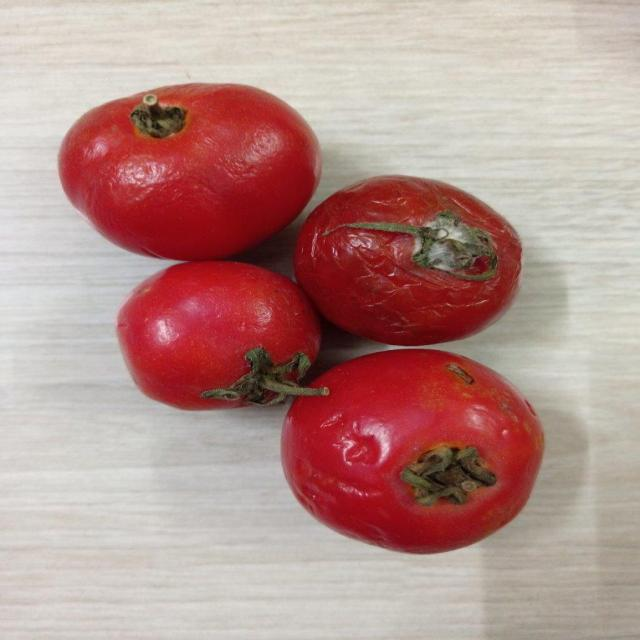Rotten: (285, 348, 545, 552), (294, 172, 524, 345)
